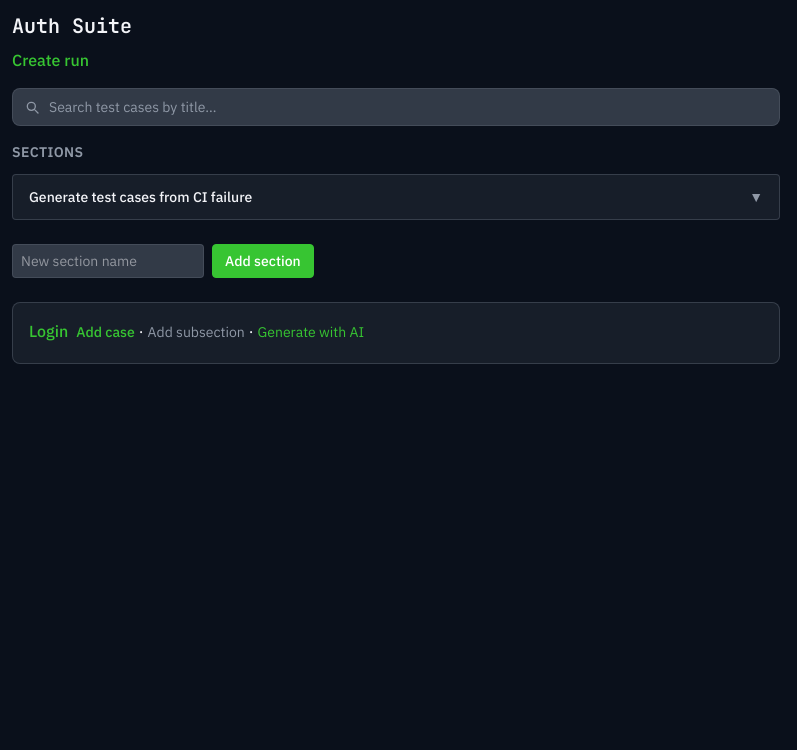
SuiteView — CI failure panel › shows suggestions result after successful generation
Expected: the heading "Auth Suite" is shown, [12,13,132,39]
Step 1. Click the text "Generate test cases from CI failure" → (141,197), box [29,187,252,207]
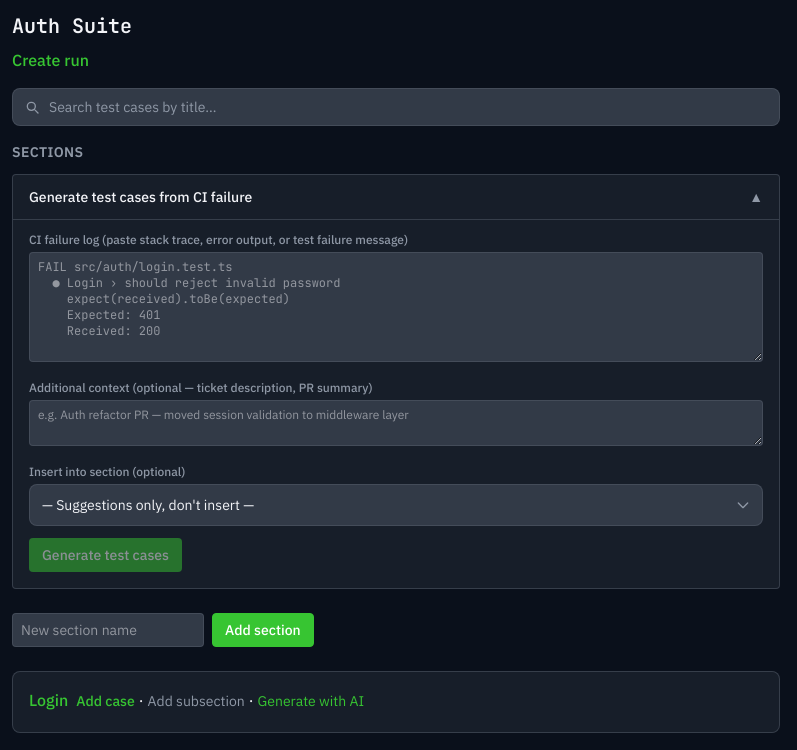
Step 2. Replace the text in the text box with placeholder "FAIL src" with "Error: login test failed" → (396,307), box [29,252,763,362]
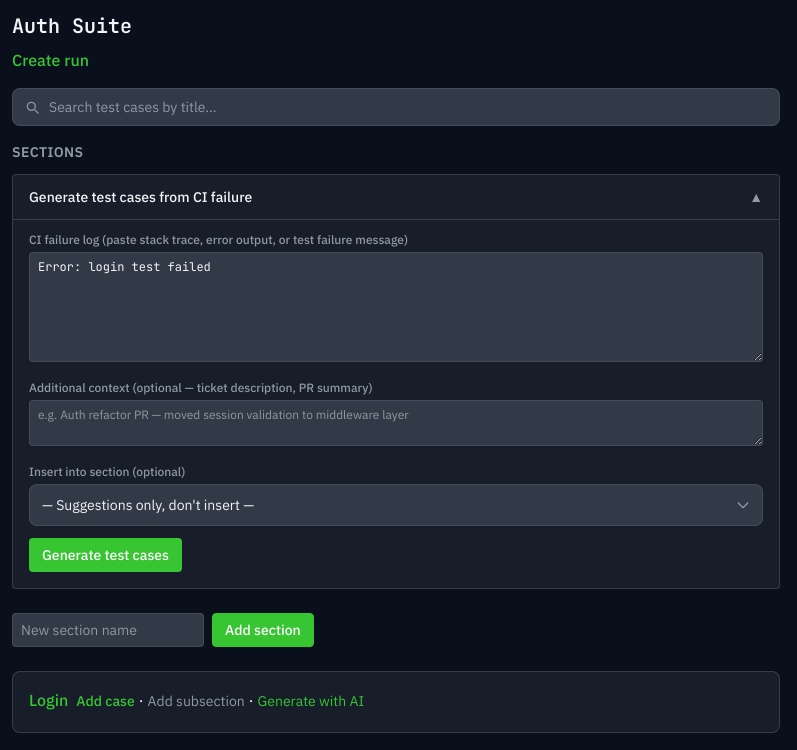
Step 3. Click the button "Generate test cases" → (106,555), box [29,538,182,572]
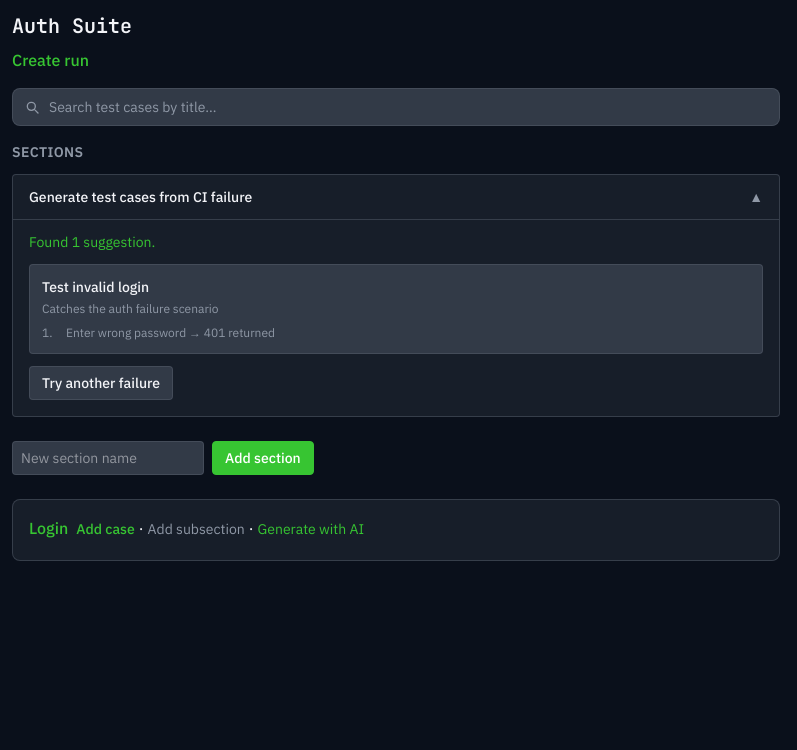
Expected: the text "Test invalid login" is shown, [42,278,149,296]
Expected: the text "Catches the auth failure scenario" is shown, [42,301,219,316]
